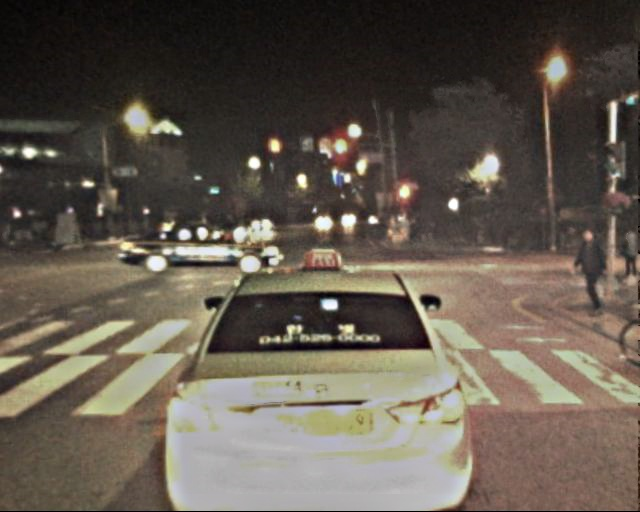person: (573, 226, 609, 314), (619, 226, 640, 279), (408, 218, 442, 245), (4, 213, 26, 245)
